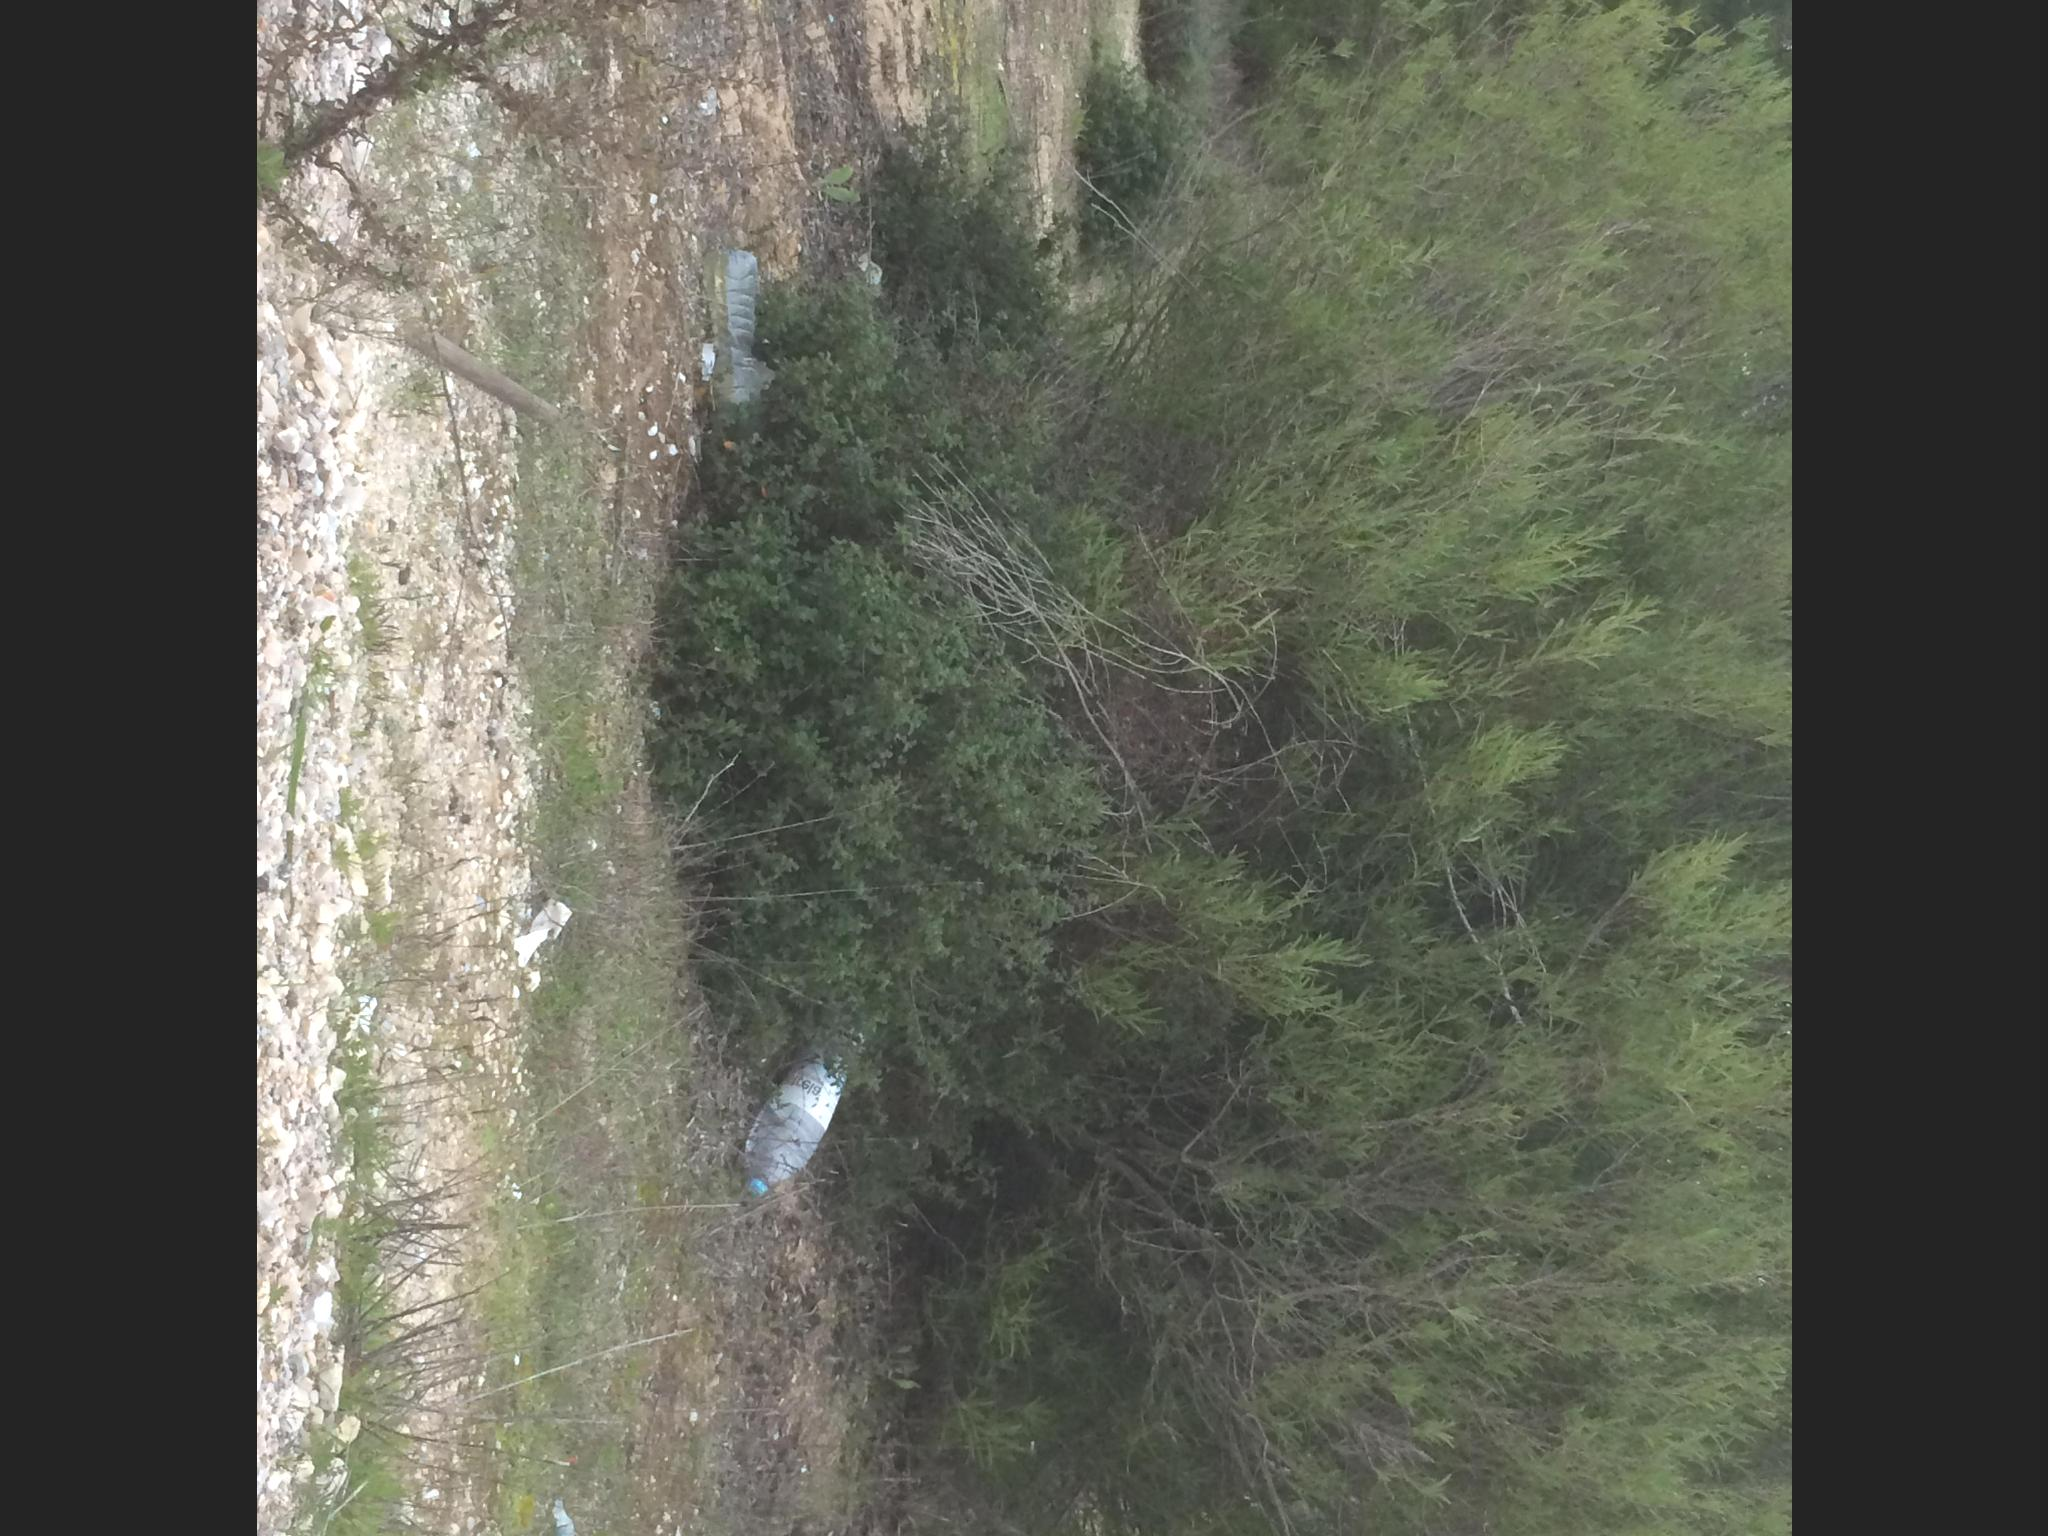bottle: (740, 1046, 854, 1208), (689, 244, 777, 436)
